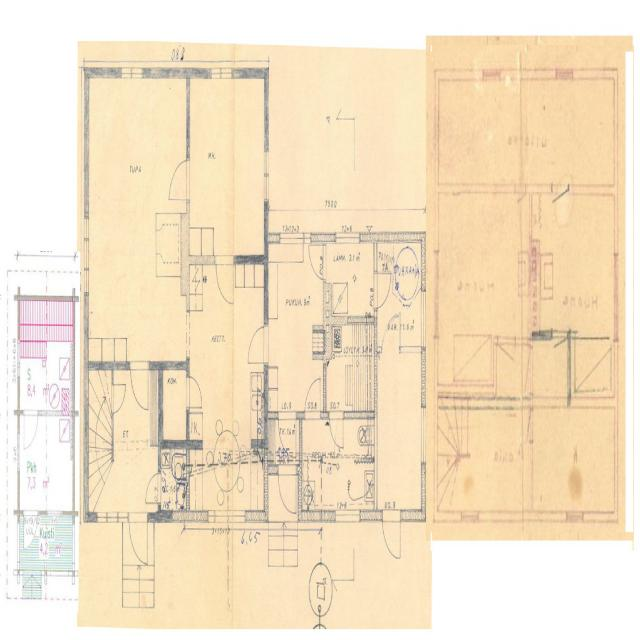door: (496, 361, 517, 417), (510, 380, 533, 426), (382, 509, 400, 564), (129, 511, 147, 564), (279, 465, 296, 516), (382, 304, 400, 352), (488, 185, 506, 233), (216, 255, 233, 303), (279, 411, 296, 458), (131, 362, 148, 408), (170, 161, 190, 199), (248, 327, 269, 362), (305, 375, 320, 418), (374, 273, 392, 308), (308, 246, 326, 280), (329, 411, 343, 449), (186, 378, 203, 408), (24, 410, 38, 446), (145, 473, 161, 502), (24, 510, 37, 544), (112, 384, 125, 412)
